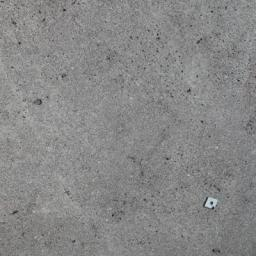FOD: (202, 195, 220, 211)
